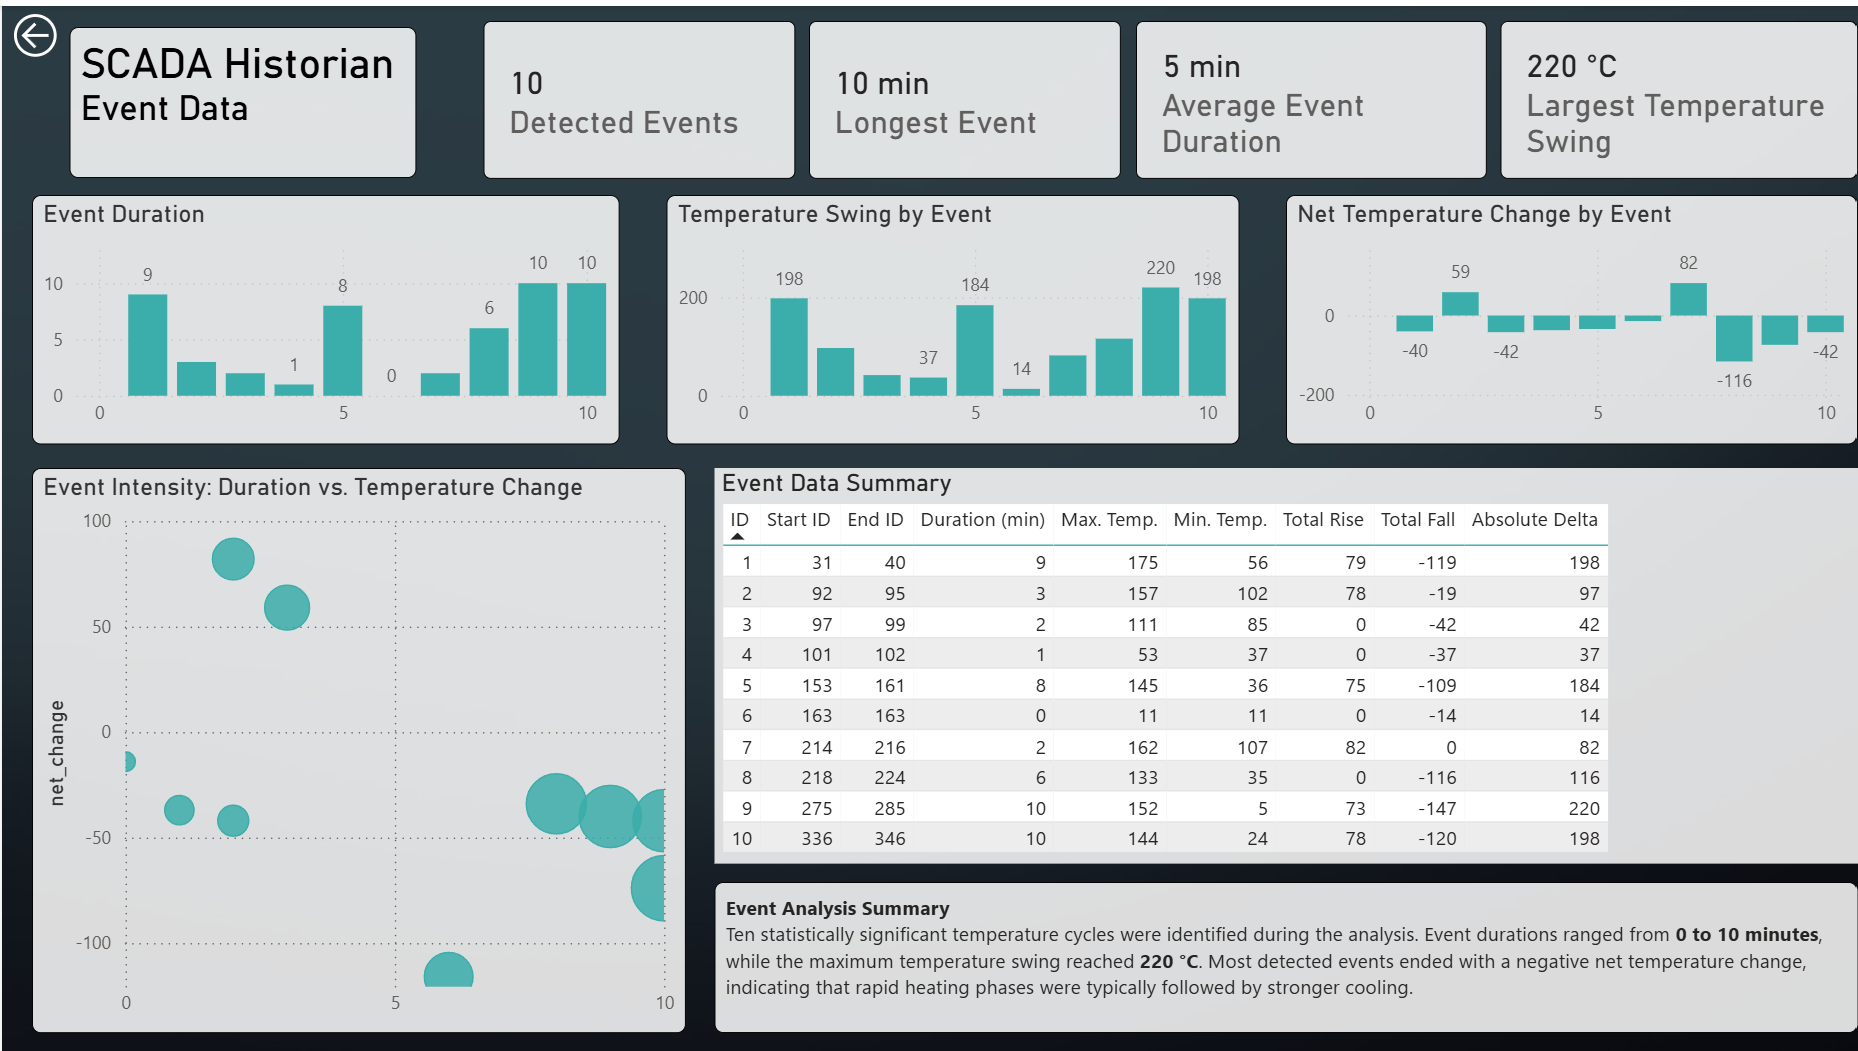

What the dashboard file says about the page in this screenshot:
{"tool":"powerbi","page":{"name":"Event Analysis","canvas":[1280,720],"ordinal":3},"visuals":[{"type":"cardVisual","fields":{"Data":["Event_data.Detected Events"]},"box":[329.4,10.3,213.4,107.8],"z":0},{"type":"cardVisual","fields":{"Data":["Event_data.Longest Event"]},"box":[552.4,10.3,213.4,107.8],"z":1000},{"type":"cardVisual","fields":{"Data":["Event_data.Largest Temperature Swing"]},"box":[1025.2,10.3,244.2,107.8],"z":2000},{"type":"cardVisual","fields":{"Data":["Event_data.Average Event Duration"]},"box":[775.5,10.3,240.1,107.8],"z":3000},{"type":"clusteredColumnChart","title":"Event Duration","fields":{"Category":["Event_data.cycle_id"],"Y":["Sum(Event_data.duration)"]},"box":[20.5,129.3,402.3,170.3],"z":4000},{"type":"clusteredColumnChart","title":"Temperature Swing by Event","fields":{"Category":["Event_data.cycle_id"],"Y":["Sum(Event_data.absolute_delta)"]},"box":[454.6,129.3,392,170.3],"z":5000},{"type":"clusteredColumnChart","title":"Net Temperature Change by Event","fields":{"Category":["Event_data.cycle_id"],"Y":["Sum(Event_data.net_change)"]},"box":[878.4,129.3,391,170.3],"z":6000},{"type":"scatterChart","title":"Event Intensity: Duration vs. Temperature Change","fields":{"Size":["Sum(Event_data.absolute_delta)"],"X":["Event_data.duration"],"Y":["Event_data.net_change"]},"box":[20.5,316.1,447.4,386.9],"z":7000},{"type":"tableEx","title":"Event Data Summary","fields":{"Values":["Event_data.cycle_id","Event_data.start_id","Event_data.end_id","Event_data.duration","Event_data.max_temperature","Event_data.min_temperature","Event_data.total_rise","Event_data.total_fall","Event_data.absolute_delta"]},"box":[487.4,316.1,782,270.9],"z":8000},{"type":"textbox","box":[46.2,14.4,237.1,103.6],"z":8001},{"type":"actionButton","box":[0,0,45.2,40.3],"z":8002},{"type":"textbox","box":[487.4,599.3,782,103.6],"z":8003}]}

Visuals, with their boxes in screenshot pixels (x1, y1, x2, y2), scaled from the page's 1280x720 canvas onto the 1858x1051 screenshot:
cardVisual - Event_data.Detected Events: [478,15,788,172]
cardVisual - Event_data.Longest Event: [802,15,1112,172]
cardVisual - Event_data.Largest Temperature Swing: [1488,15,1843,172]
cardVisual - Event_data.Average Event Duration: [1126,15,1474,172]
"Event Duration" clusteredColumnChart: [30,189,614,437]
"Temperature Swing by Event" clusteredColumnChart: [660,189,1229,437]
"Net Temperature Change by Event" clusteredColumnChart: [1275,189,1843,437]
"Event Intensity: Duration vs. Temperature Change" scatterChart: [30,461,679,1026]
"Event Data Summary" tableEx: [707,461,1843,857]
textbox: [67,21,411,172]
actionButton: [0,0,66,59]
textbox: [707,875,1843,1026]
